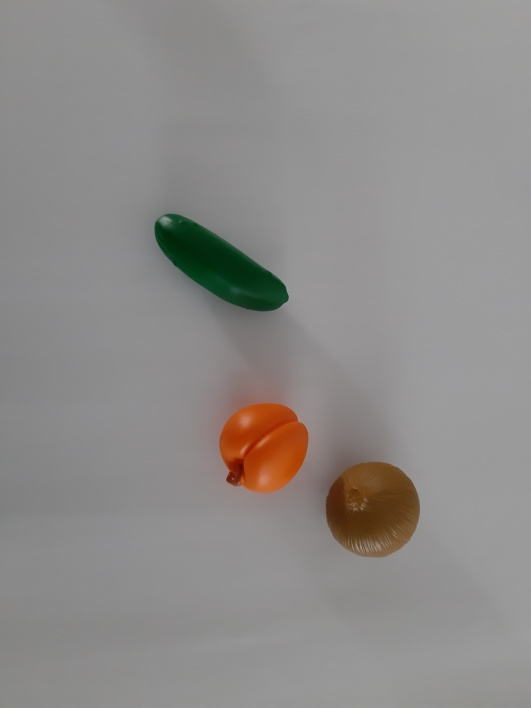apricot: (190, 390, 323, 512)
cucumber: (141, 203, 303, 326)
onion: (320, 457, 431, 561)
